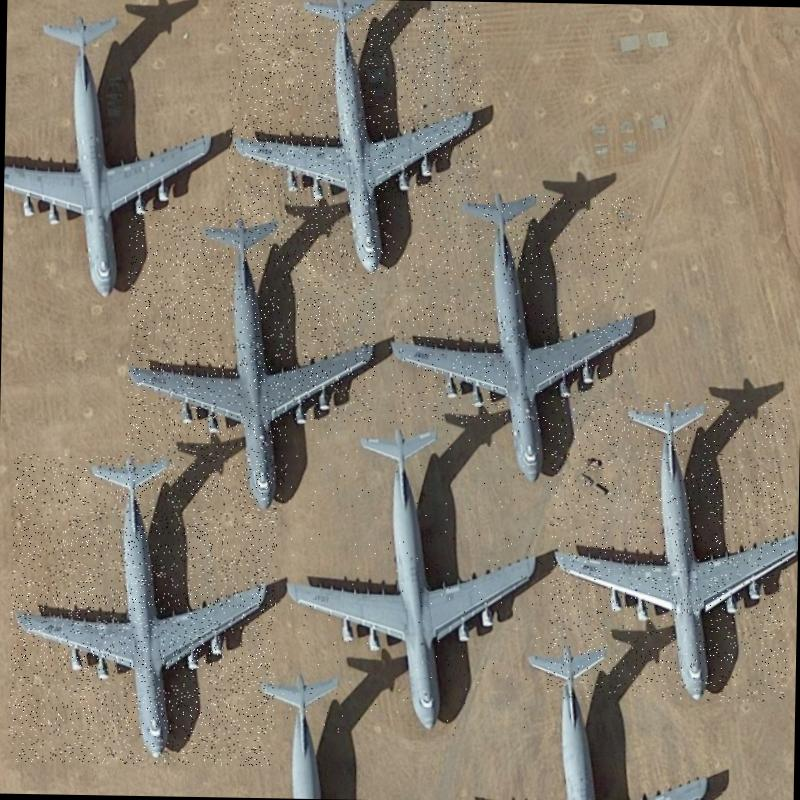A4: (281, 421, 548, 738), (8, 453, 278, 766), (124, 204, 377, 512), (386, 192, 641, 486), (547, 396, 792, 702), (225, 1, 483, 274), (2, 6, 218, 301)
